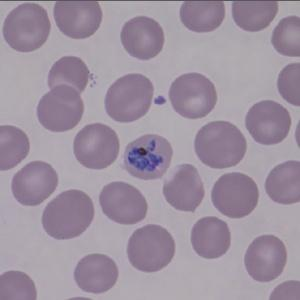Infected: (123, 133, 174, 177)
Uninfected: (193, 120, 248, 169), (42, 190, 94, 238), (127, 225, 176, 274), (104, 73, 154, 121), (3, 2, 50, 52), (168, 71, 216, 118), (38, 85, 84, 133), (73, 122, 119, 169), (212, 173, 259, 218), (162, 163, 205, 212), (12, 161, 57, 207), (243, 101, 291, 144), (245, 234, 286, 283), (52, 0, 103, 39), (121, 15, 165, 60), (100, 182, 147, 224), (48, 55, 90, 97), (74, 254, 118, 294), (191, 216, 230, 259), (266, 161, 300, 206), (232, 0, 278, 32), (181, 0, 225, 33), (272, 17, 300, 56)
